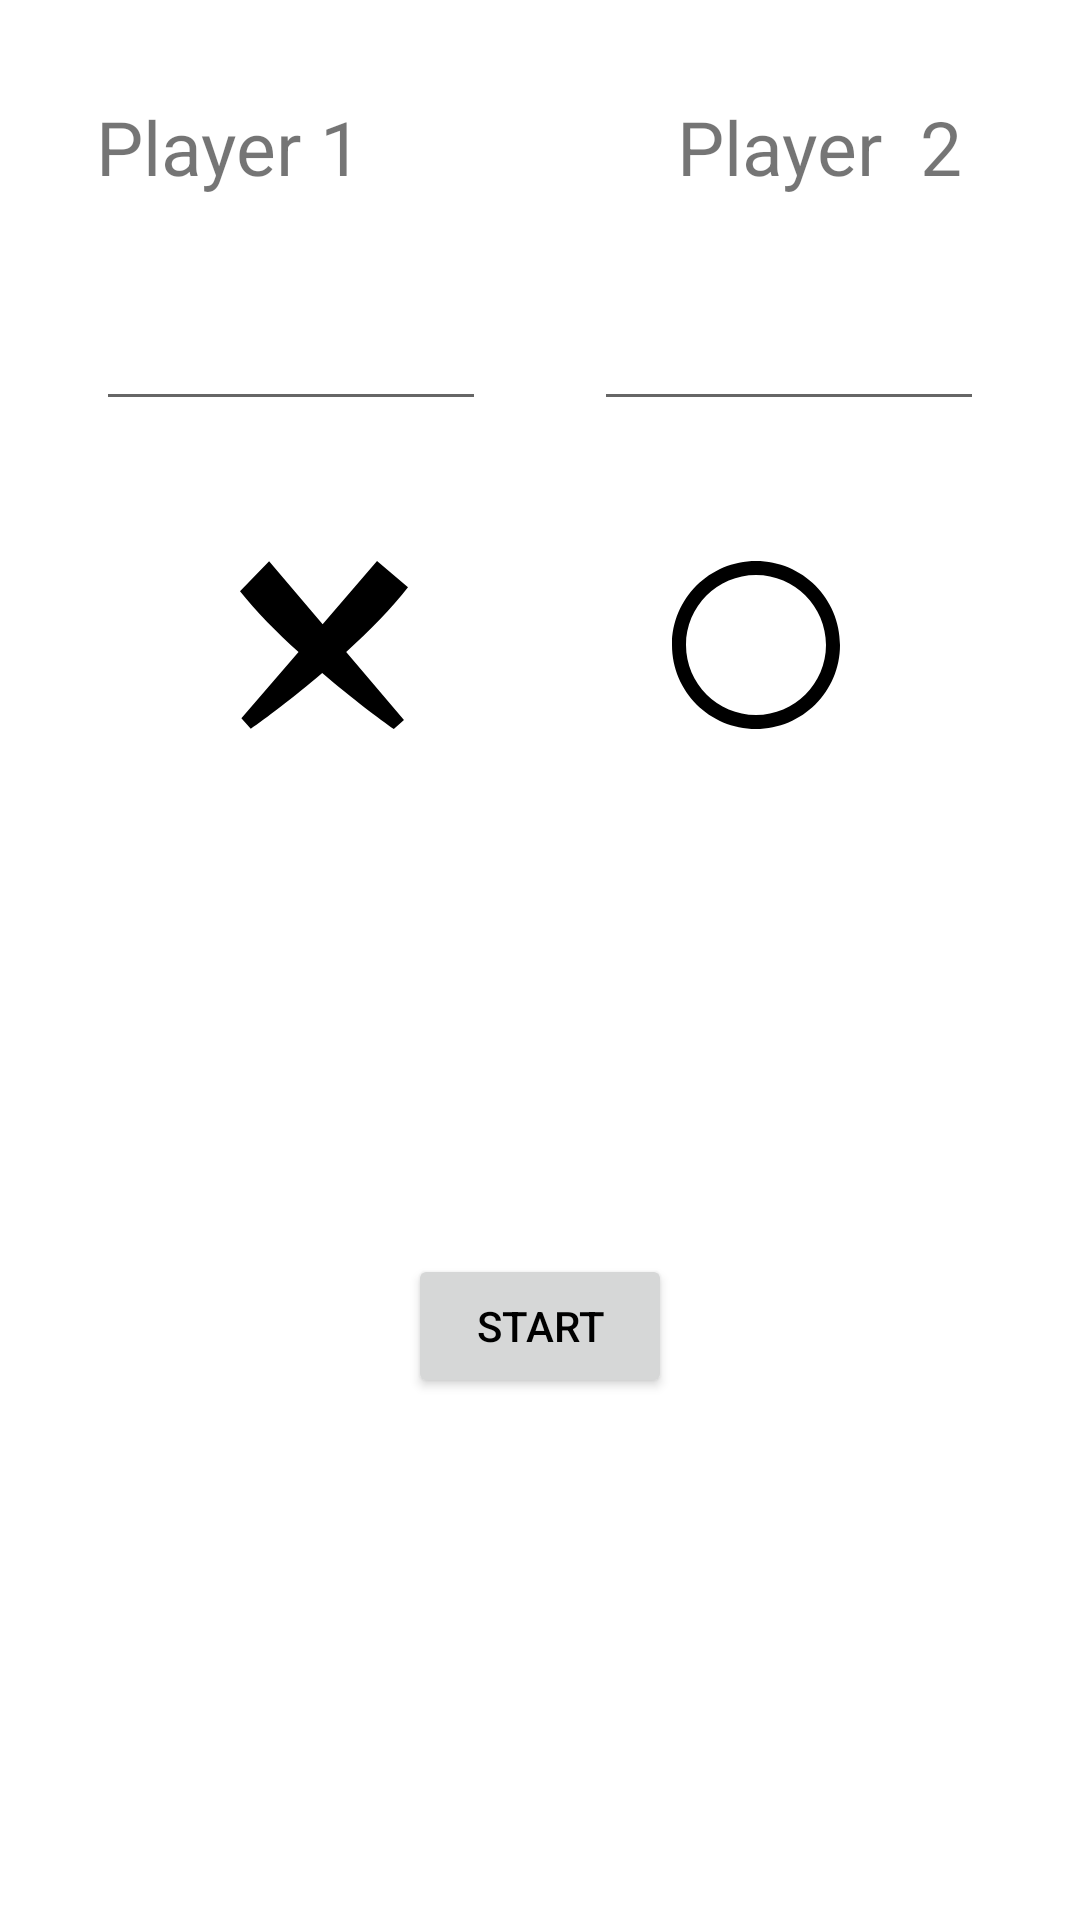

Named icons in this screenshot (1080×1920) and their bounding boxes, BBox(x1, y1, x2, y2):
iconmonstr circle: BBox(672, 561, 840, 729)
iconmonstr mark: BBox(240, 561, 408, 729)
